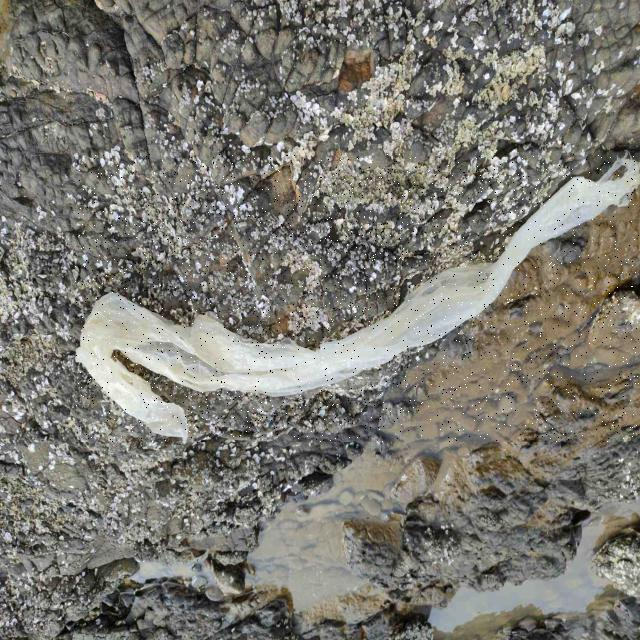plastic: (75, 154, 640, 441)
